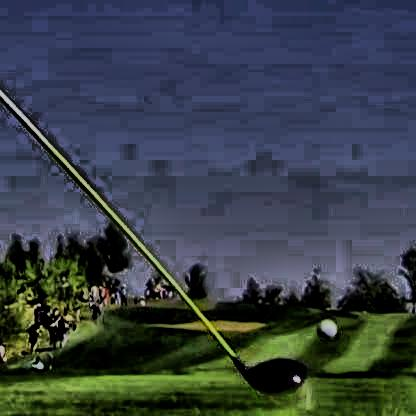golfball: (314, 315, 335, 337)
